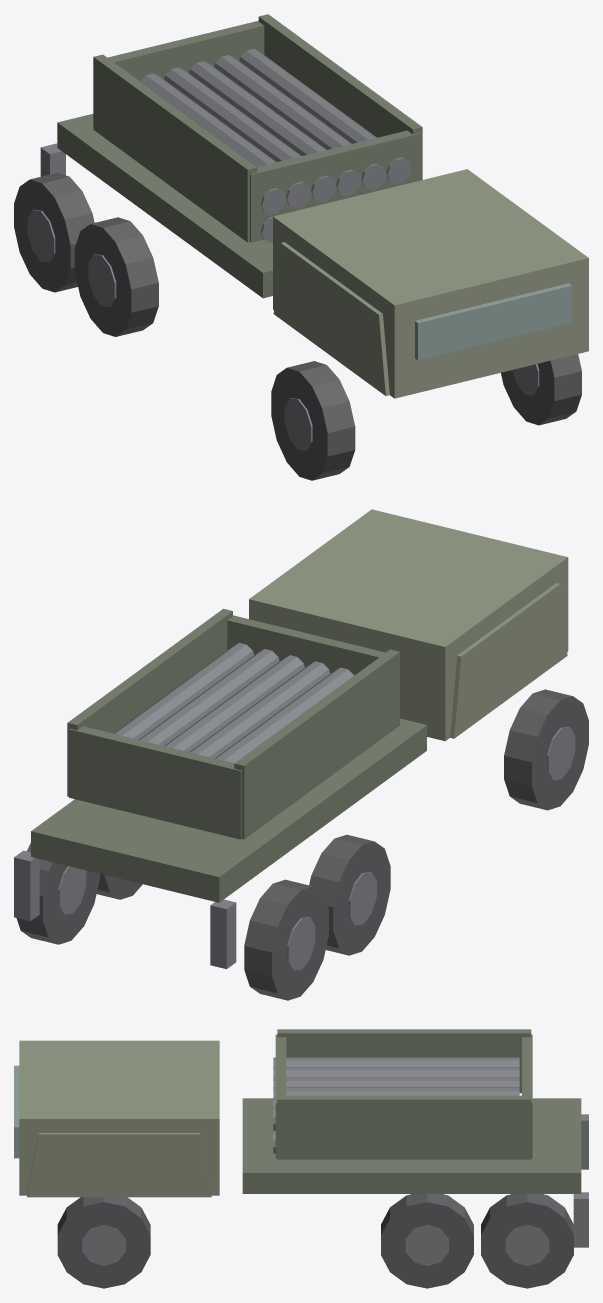
File: mobile-rocket-launcher.glb
3 renders of one model, top to bottom at view 1: azimuth 30°, elevation 25°; view 2: azimuth 150°, elevation 25°; view 3: azimuth 270°, elevation 25°, orthographic. The views are drawn at different scales.
Visible parts, largest first — view 1: rocket-launcher-vehicle, launcher (×2); view 2: rocket-launcher-vehicle, launcher (×2); view 3: rocket-launcher-vehicle, launcher (×2).
Part boxes in pixels (x1,y1,x2,y2): rocket-launcher-vehicle: [14, 114, 588, 480]; launcher (×2): [93, 14, 422, 242]; rocket-launcher-vehicle: [14, 509, 588, 1000]; launcher (×2): [67, 608, 399, 839]; rocket-launcher-vehicle: [14, 1040, 588, 1288]; launcher (×2): [273, 1029, 532, 1159].
Bounding box in the file's own units: 3.16 × 2.56 × 7.47.
